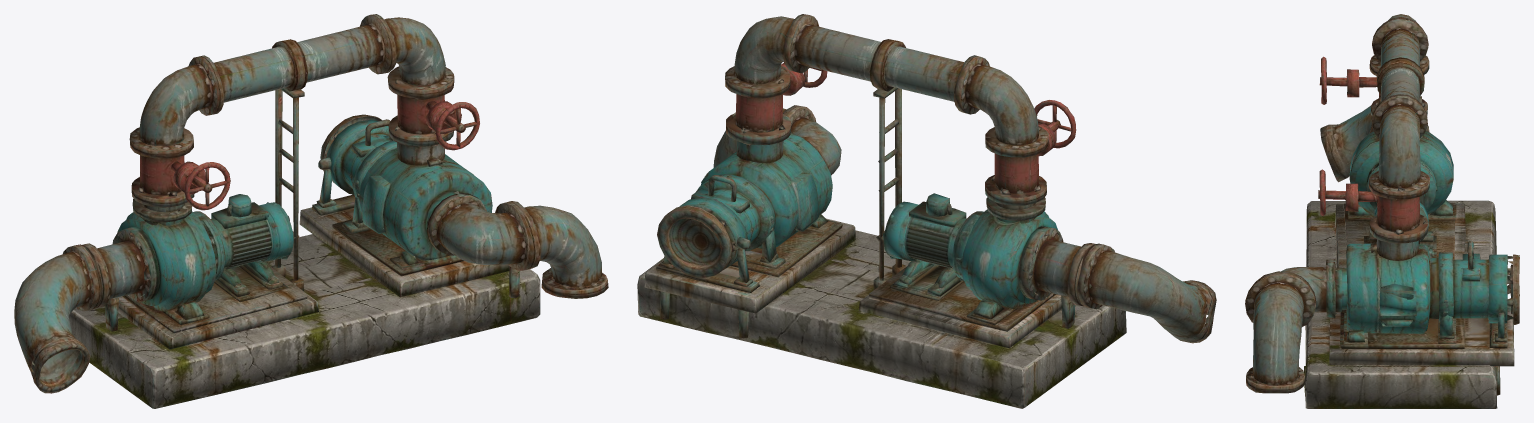
Rendered from pump-station.glb.
The picture shows the model from 3 angles, left to right: view 1: azimuth 30°, elevation 25°; view 2: azimuth 150°, elevation 25°; view 3: azimuth 270°, elevation 25°; orthographic projection. The views are drawn at different scales.
Visible parts, largest first — view 1: pump-station; view 2: pump-station; view 3: pump-station.
Part boxes in pixels (x1=…): pump-station: x1=14, y1=14, x2=608, y2=408; pump-station: x1=637, y1=14, x2=1216, y2=408; pump-station: x1=1245, y1=14, x2=1519, y2=408.
Size of the model in its own units: 6 by 3.14 by 2.95.
1 material, 1 textured.
